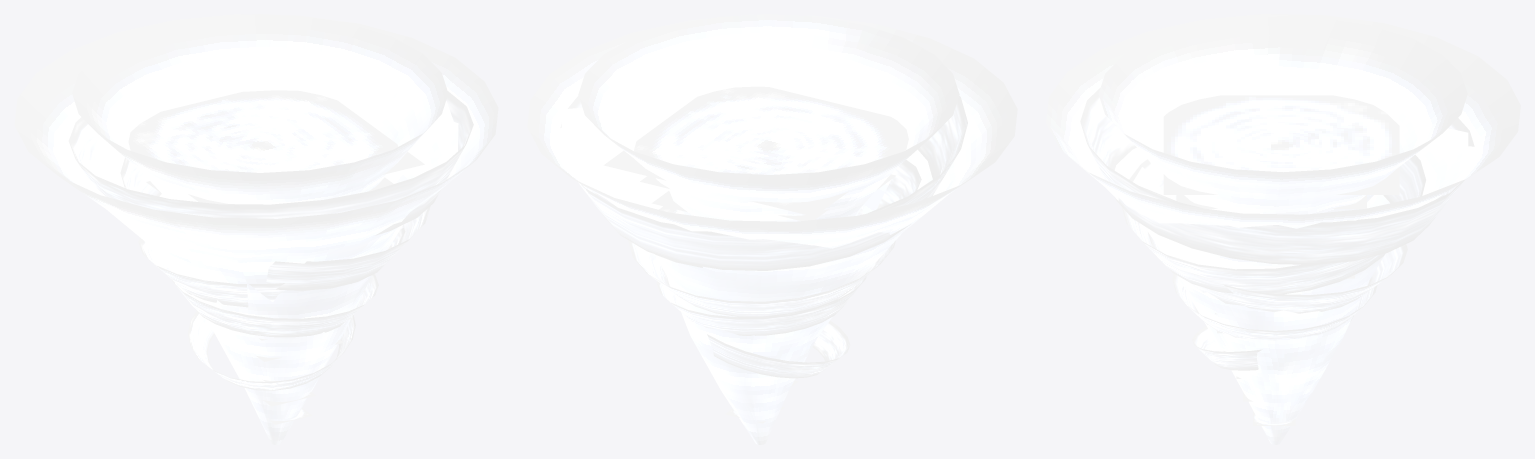
The model's file is sfx_glorb0021_JoesBandage_Hurricaneupper_avatar1.glb.
3 views of the same model, side by side, from view 1: azimuth 30°, elevation 25°; view 2: azimuth 150°, elevation 25°; view 3: azimuth 270°, elevation 25° (orthographic). The views are drawn at different scales.
Visible parts, largest first — view 1: sfx_glorb0021_JoesBandage_Hurricaneupper_avatar1; view 2: sfx_glorb0021_JoesBandage_Hurricaneupper_avatar1; view 3: sfx_glorb0021_JoesBandage_Hurricaneupper_avatar1.
Boxes of the visible parts, x1=… form: sfx_glorb0021_JoesBandage_Hurricaneupper_avatar1: x1=14, y1=14, x2=498, y2=444; sfx_glorb0021_JoesBandage_Hurricaneupper_avatar1: x1=527, y1=14, x2=1017, y2=444; sfx_glorb0021_JoesBandage_Hurricaneupper_avatar1: x1=1046, y1=14, x2=1520, y2=444.
Bounding box in the file's own units: 0.6604 × 0.5261 × 0.6604.
Materials: 3 (3 with a texture image).
